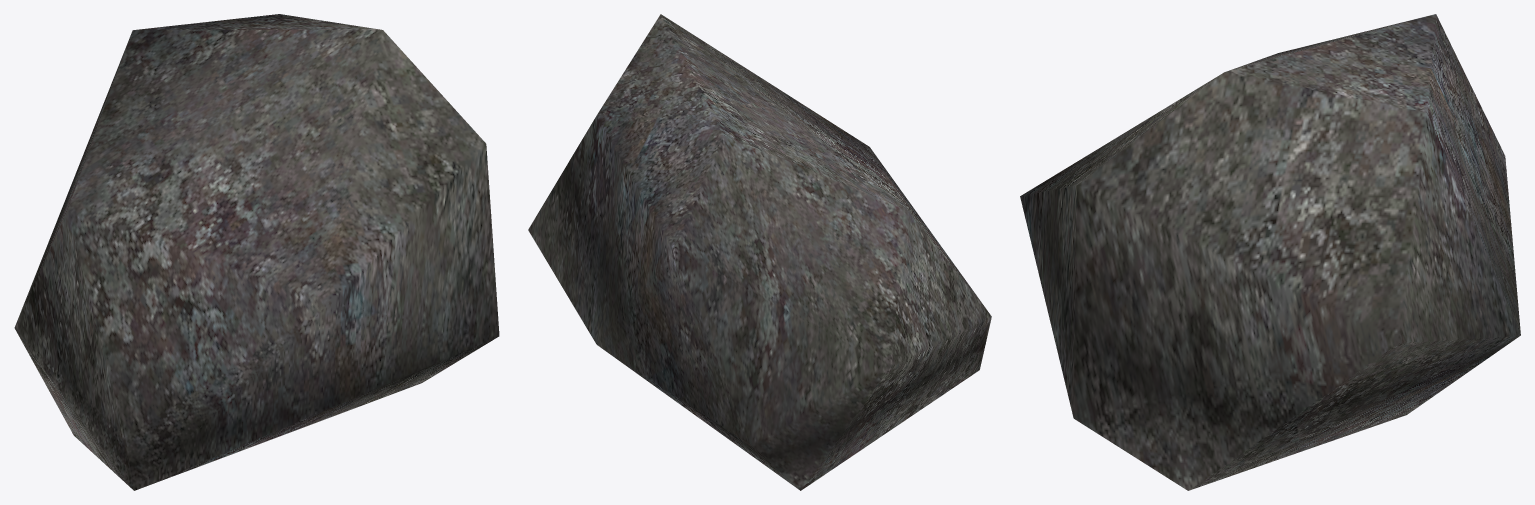
The model's file is rock_volcanorockb_l2.fbx.
3 views of the same model, side by side, from view 1: azimuth 30°, elevation 25°; view 2: azimuth 150°, elevation 25°; view 3: azimuth 270°, elevation 25° (orthographic). The views are drawn at different scales.
Parts seen in each view (by area): view 1: mesh_node; view 2: mesh_node; view 3: mesh_node.
Boxes of the visible parts, x1,y1,x2,y2 form: mesh_node: (14,14,499,490); mesh_node: (528,14,991,490); mesh_node: (1020,14,1520,490).
Size of the model in its own units: 5.11 by 5.24 by 5.02.
1 material, 1 textured.
